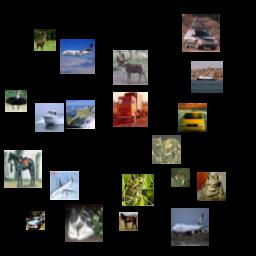airplane: (171, 208, 209, 246), (60, 39, 95, 74), (66, 100, 95, 129), (50, 171, 79, 200)
automobile: (182, 14, 220, 52), (178, 103, 207, 132), (26, 211, 45, 230)
bird: (5, 90, 27, 112)
cat: (65, 204, 103, 242), (152, 135, 181, 164), (171, 168, 190, 187)
deer: (113, 50, 148, 85), (34, 29, 56, 51)
frog: (122, 174, 154, 206), (197, 172, 226, 201)
ship: (191, 61, 223, 93), (35, 103, 64, 132)
truck: (113, 92, 148, 127)
